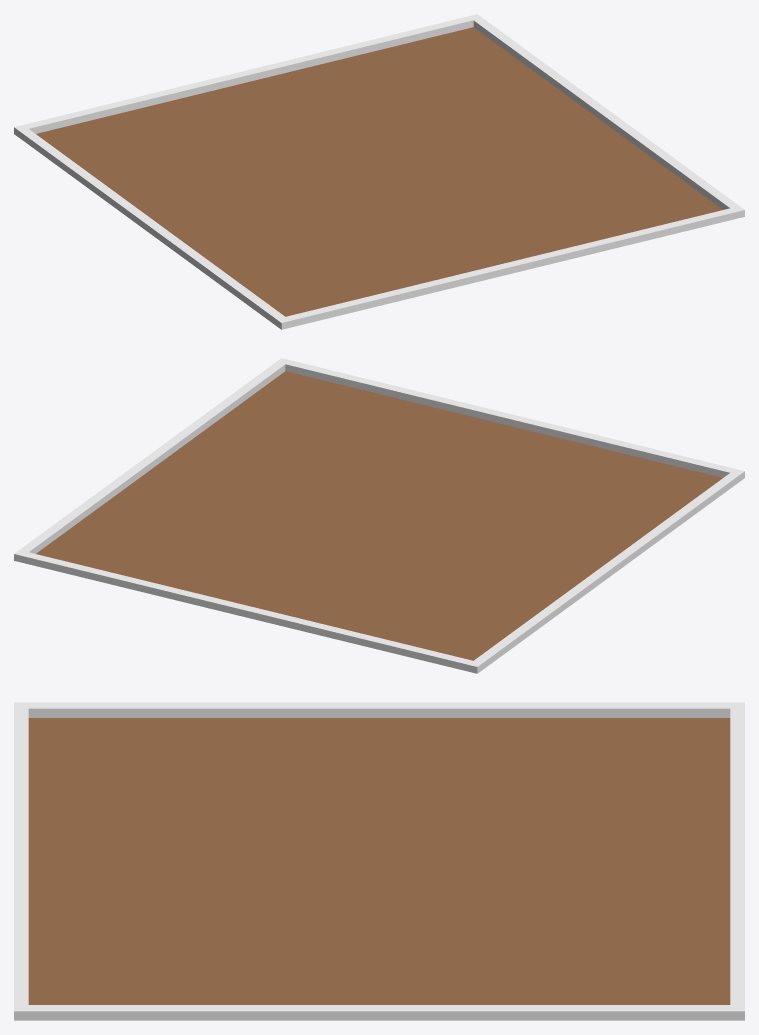
File: tour_barman_sol.glb
The picture shows the model from 3 angles, top to bottom: view 1: azimuth 30°, elevation 25°; view 2: azimuth 150°, elevation 25°; view 3: azimuth 270°, elevation 25°; orthographic projection. The views are drawn at different scales.
Parts seen in each view (by area): view 1: sol_plateform; view 2: sol_plateform; view 3: sol_plateform.
Part boxes in pixels (x1,y1,x2,y2): sol_plateform: [14, 14, 744, 329]; sol_plateform: [14, 358, 744, 673]; sol_plateform: [14, 702, 744, 1020].
Size of what is drawn, in the model's own units: 16 by 0.226 by 16.
